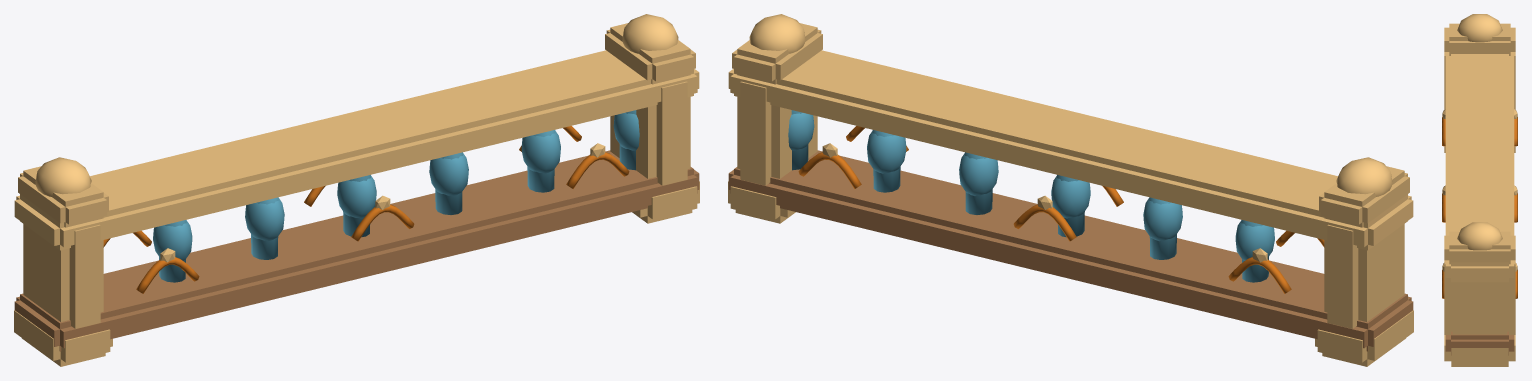
Rendered from east-rail-BLC7NGFH.glb.
3 renders of one model, left to right at view 1: azimuth 30°, elevation 25°; view 2: azimuth 150°, elevation 25°; view 3: azimuth 270°, elevation 25°, orthographic. The views are drawn at different scales.
Visible parts, largest first — view 1: east-rail; view 2: east-rail; view 3: east-rail.
Boxes of the visible parts, <box> form: east-rail: <box>14,14,699,366</box>; east-rail: <box>728,14,1413,366</box>; east-rail: <box>1442,14,1517,366</box>.
Bounding box in the file's own units: 2.65 × 0.73 × 0.37.
